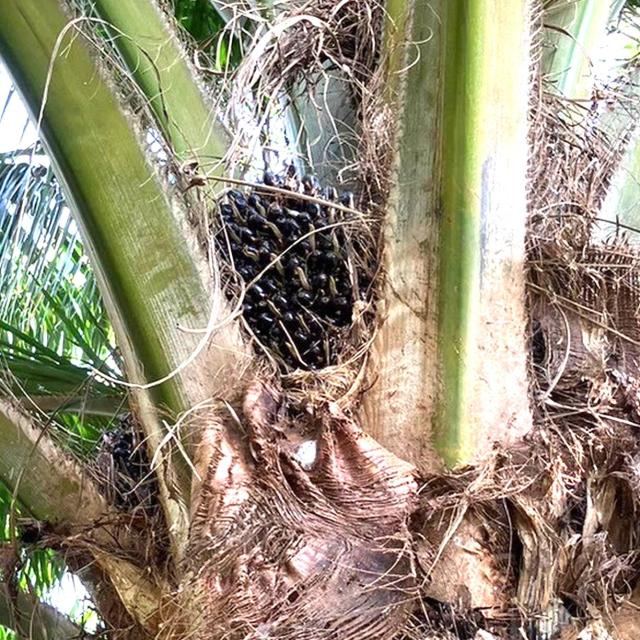unripe: (220, 180, 373, 374)
